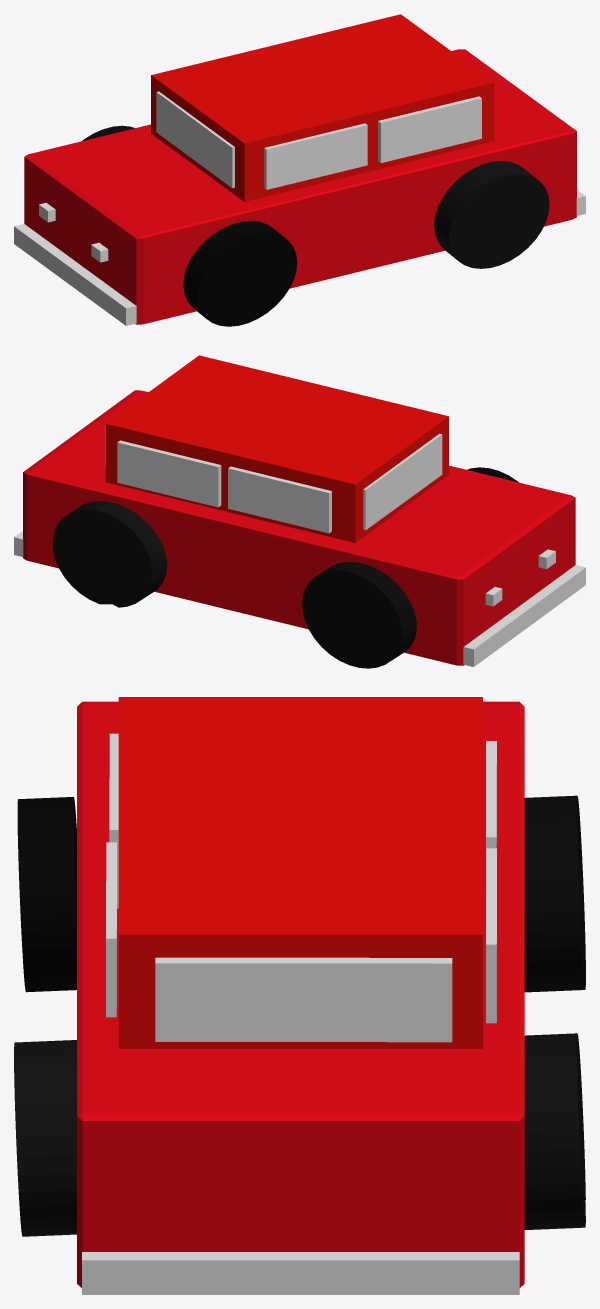
Rendered from a3-carro1.fbx.
The picture shows the model from 3 angles, top to bottom: view 1: azimuth 30°, elevation 25°; view 2: azimuth 150°, elevation 25°; view 3: azimuth 270°, elevation 25°; orthographic projection. The views are drawn at different scales.
Parts seen in each view (by area): view 1: Cubo, Cubo.001, Cilindro.001, Cilindro.003, Cubo.006, Cubo.007, Cubo.002, Cubo.010; view 2: Cubo, Cubo.001, Cilindro.002, Cilindro, Cubo.005, Cubo.004, Cubo.002, Cubo.010; view 3: Cubo, Cubo.001, Cubo.003, Cubo.011, Cilindro.001, Cilindro.002, Cilindro, Cilindro.003, Cubo.005, Cubo.006, Cubo.004, Cubo.007.
Boxes of the visible parts, <box> form: Cubo: <box>24,49,576,324</box>; Cubo.001: <box>151,14,494,201</box>; Cilindro.001: <box>434,161,549,268</box>; Cilindro.003: <box>183,221,297,326</box>; Cubo.006: <box>378,96,481,162</box>; Cubo.007: <box>264,123,367,189</box>; Cubo.002: <box>156,91,234,187</box>; Cubo.010: <box>14,224,136,325</box>; Cubo: <box>23,390,575,665</box>; Cubo.001: <box>105,355,448,542</box>; Cilindro.002: <box>302,562,416,668</box>; Cilindro: <box>52,501,167,607</box>; Cubo.005: <box>117,440,221,507</box>; Cubo.004: <box>228,466,331,533</box>; Cubo.002: <box>363,433,442,530</box>; Cubo.010: <box>463,565,585,666</box>; Cubo: <box>77,701,524,1287</box>; Cubo.001: <box>118,697,482,1048</box>; Cubo.003: <box>155,957,452,1042</box>; Cubo.011: <box>82,1252,519,1294</box>; Cilindro.001: <box>14,1040,76,1236</box>; Cilindro.002: <box>524,795,585,992</box>; Cilindro: <box>524,1033,585,1229</box>; Cilindro.003: <box>17,797,76,992</box>; Cubo.005: <box>486,848,496,1023</box>; Cubo.006: <box>106,842,116,1017</box>; Cubo.004: <box>486,741,496,894</box>; Cubo.007: <box>109,733,118,908</box>.
Size of the model in its own units: 626 by 209 by 346.
